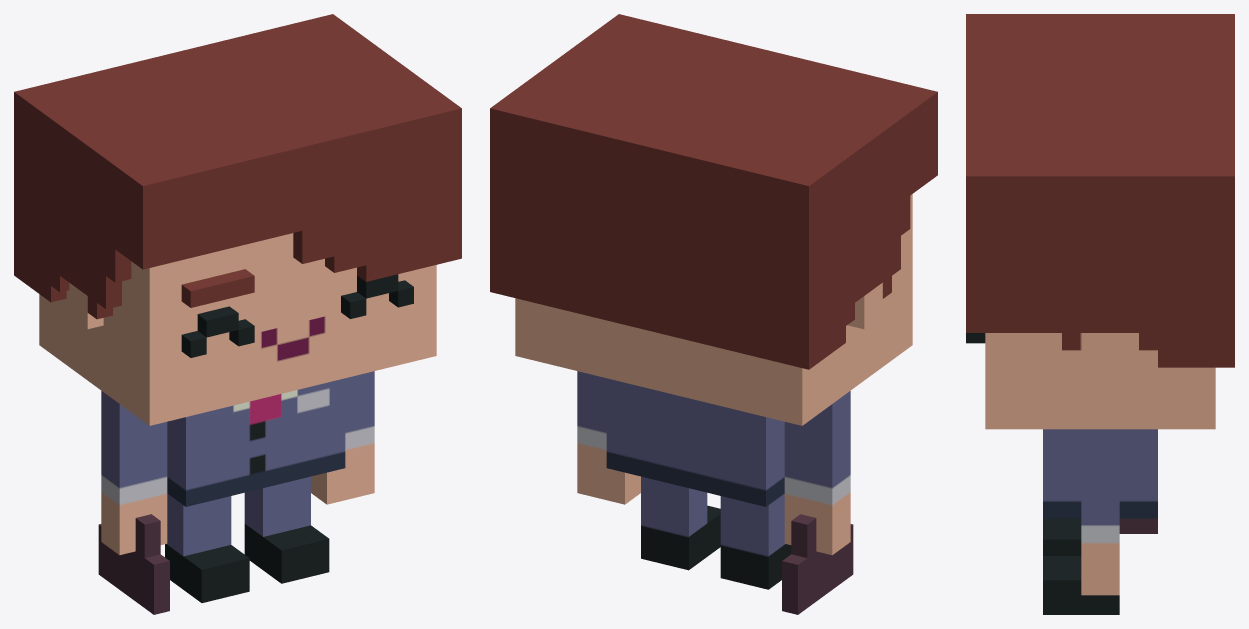
The model's file is Civilian_Happy.fbx.
The picture shows the model from 3 angles, left to right: view 1: azimuth 30°, elevation 25°; view 2: azimuth 150°, elevation 25°; view 3: azimuth 270°, elevation 25°; orthographic projection. The views are drawn at different scales.
Parts seen in each view (by area): view 1: Object; view 2: Object; view 3: Object.
Part boxes in pixels (x1,y1,x2,y2): Object: (14, 14, 461, 614); Object: (490, 14, 937, 614); Object: (966, 14, 1234, 614).
Bounding box in the file's own units: 20 × 28 × 14.
